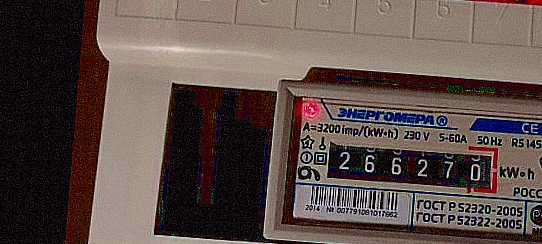0: (468, 160, 481, 182)
2: (336, 148, 352, 170), (415, 156, 429, 178)
6: (362, 152, 377, 173), (388, 154, 403, 174)
7: (440, 158, 455, 180)
screen: (316, 129, 507, 201)
